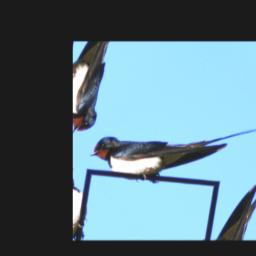Swallow: (85, 53, 256, 226)
